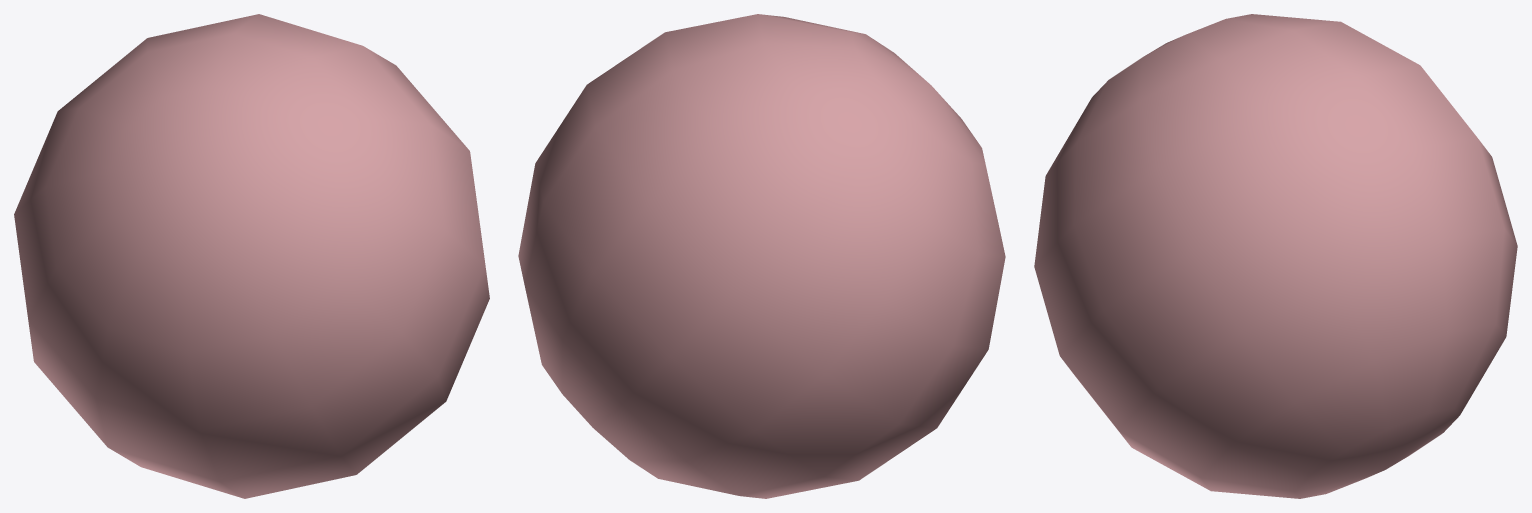
The picture shows the model from 3 angles, left to right: view 1: azimuth 30°, elevation 25°; view 2: azimuth 150°, elevation 25°; view 3: azimuth 270°, elevation 25°; orthographic projection.
Parts seen in each view (by area): view 1: ZA_c0887213e4fe94af; view 2: ZA_c0887213e4fe94af; view 3: ZA_c0887213e4fe94af.
Boxes of the visible parts, x1,y1,x2,y2 form: ZA_c0887213e4fe94af: (14, 14, 489, 498); ZA_c0887213e4fe94af: (518, 14, 1005, 498); ZA_c0887213e4fe94af: (1034, 14, 1517, 498).
Size of the model in its own units: 0.00256 by 0.00259 by 0.00257.
